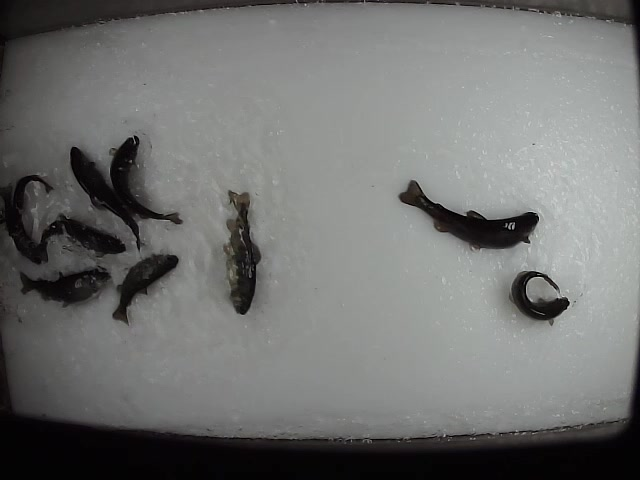fish: (396, 176, 540, 252), (63, 141, 146, 261), (103, 134, 186, 226), (217, 187, 264, 316), (106, 249, 180, 326), (14, 262, 115, 310), (508, 262, 571, 328)
